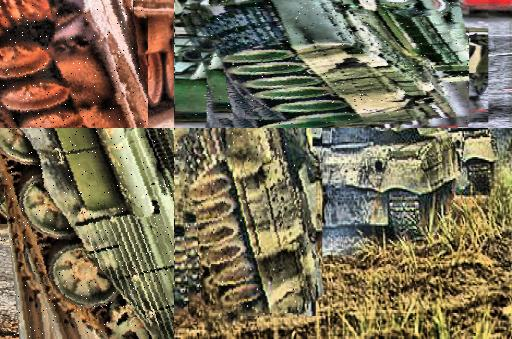tanks: (1, 129, 175, 339), (194, 1, 469, 125), (177, 129, 316, 319), (281, 129, 460, 239), (1, 1, 148, 129), (446, 129, 497, 196)
